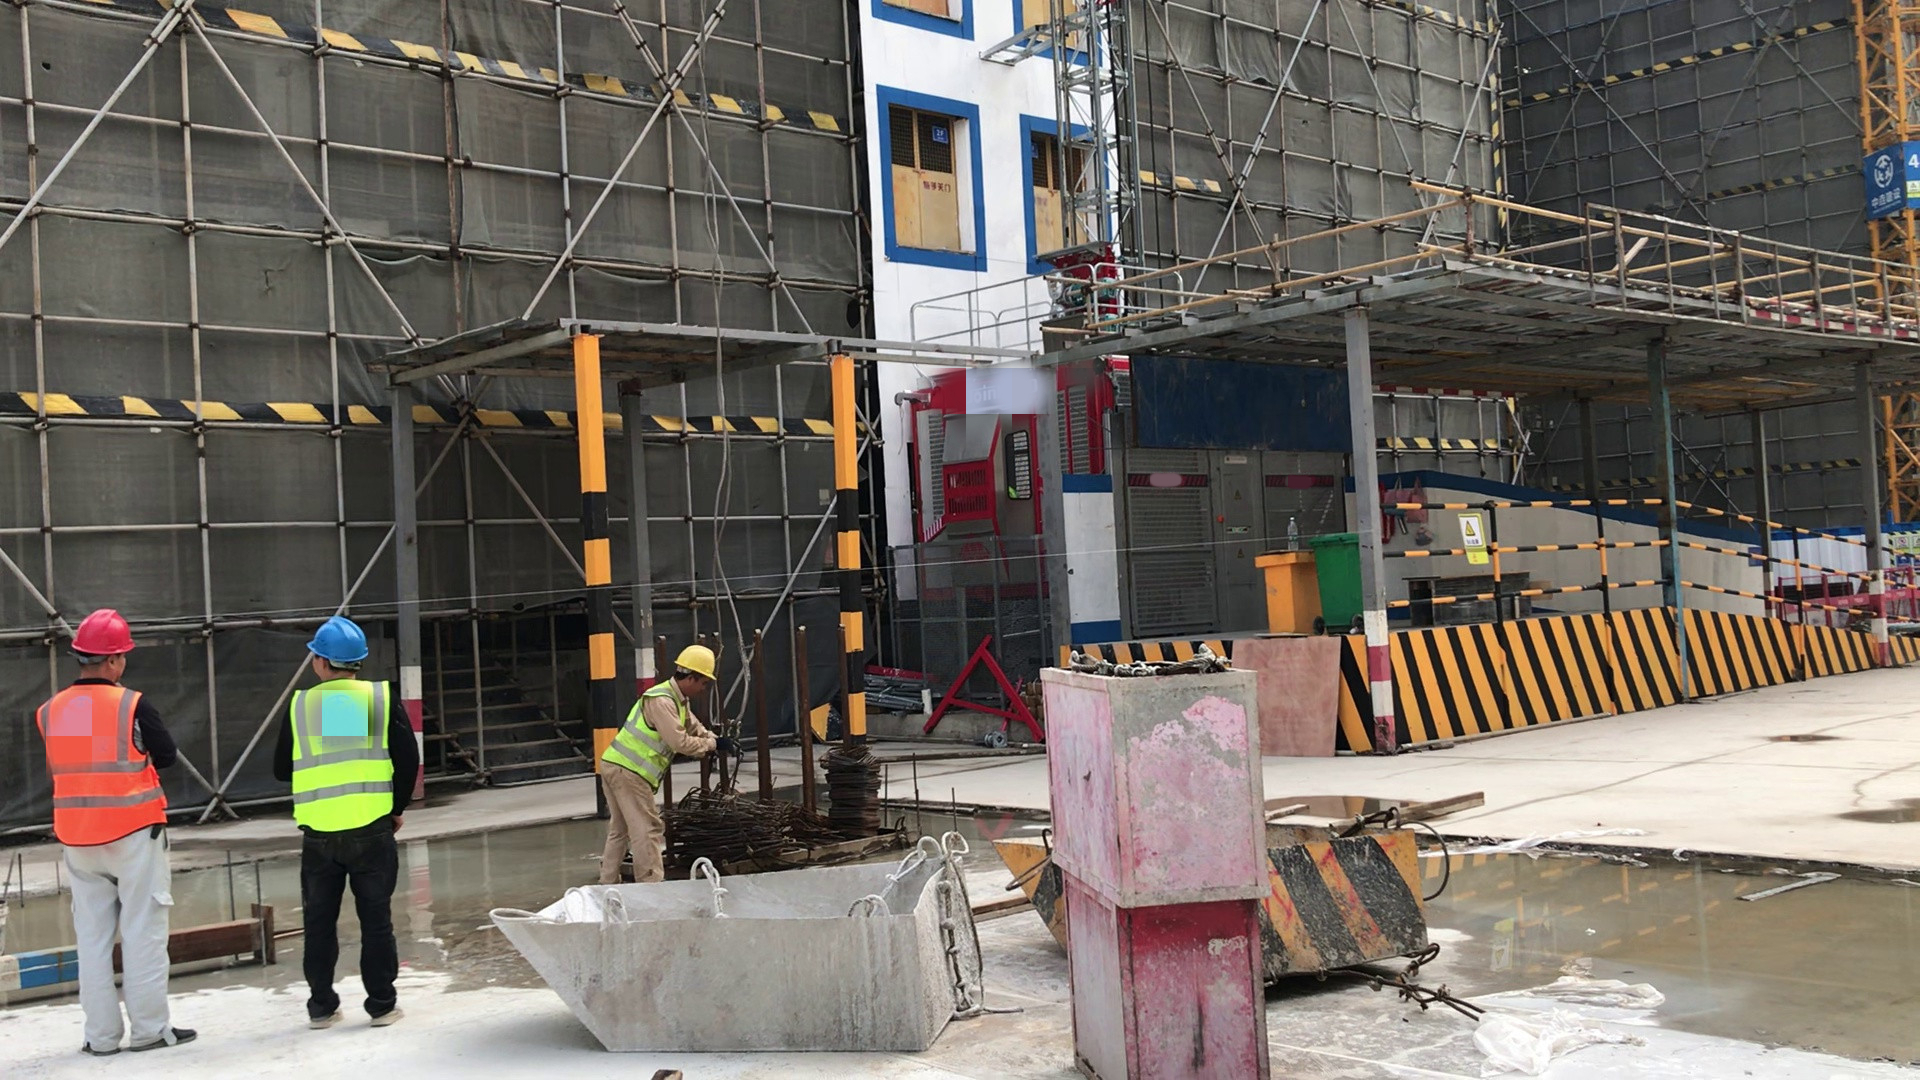helmet: (70, 602, 138, 663), (304, 612, 378, 665), (670, 641, 714, 686)
person: (35, 605, 207, 1062), (270, 614, 426, 1040), (596, 636, 728, 879)
vest: (38, 683, 178, 851), (284, 675, 403, 835), (599, 679, 698, 790)
